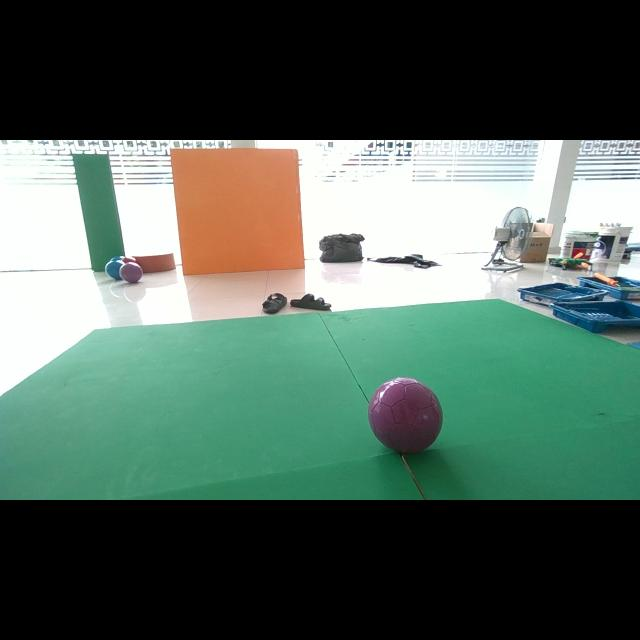B: (105, 260, 125, 280), (109, 255, 125, 261)
P: (369, 378, 442, 454), (119, 262, 142, 283)
R: (122, 258, 136, 262)
